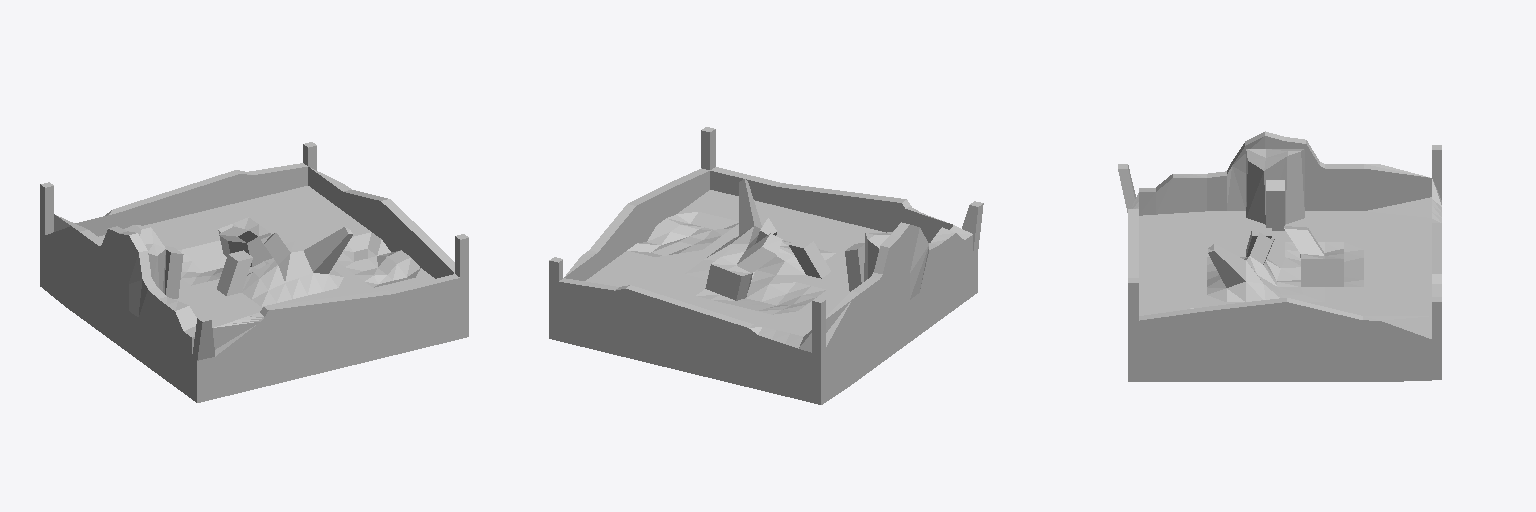
Rendered from Map.obj.
The picture shows the model from 3 angles: view 1: azimuth 30°, elevation 25°; view 2: azimuth 150°, elevation 25°; view 3: azimuth 270°, elevation 25°; orthographic projection.
Visible parts, largest first — view 1: Cube_Cube.001; view 2: Cube_Cube.001; view 3: Cube_Cube.001.
Part boxes in pixels (bbox=[...]): Cube_Cube.001: bbox=[40, 142, 468, 402]; Cube_Cube.001: bbox=[549, 127, 983, 404]; Cube_Cube.001: bbox=[1118, 131, 1441, 381].
Bounding box in the file's own units: 303 × 124 × 310.